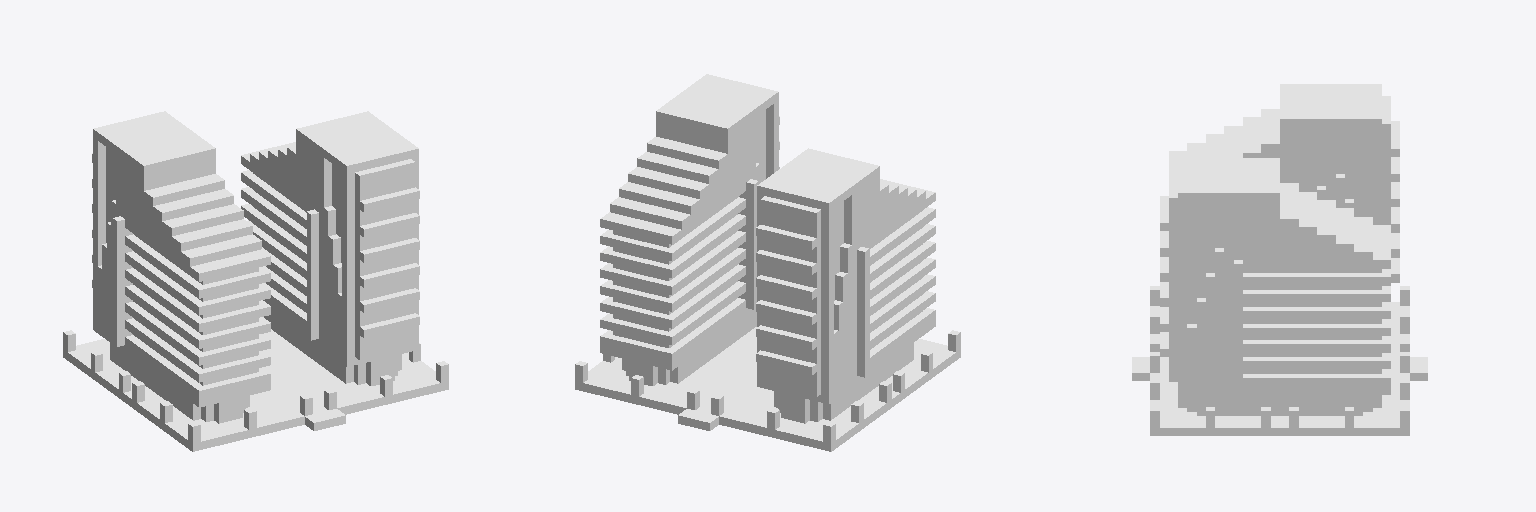
Rendered from cityHall4.obj.
3 renders of one model, left to right at view 1: azimuth 30°, elevation 25°; view 2: azimuth 150°, elevation 25°; view 3: azimuth 270°, elevation 25°, orthographic.
Parts seen in each view (by area): view 1: object 1; view 2: object 1; view 3: object 1.
Boxes of the visible parts, x1,y1,x2,y2 form: object 1: [63, 111, 448, 451]; object 1: [575, 74, 960, 451]; object 1: [1132, 84, 1427, 435].
Size of the model in its own units: 3.2 by 2.8 by 3.2.